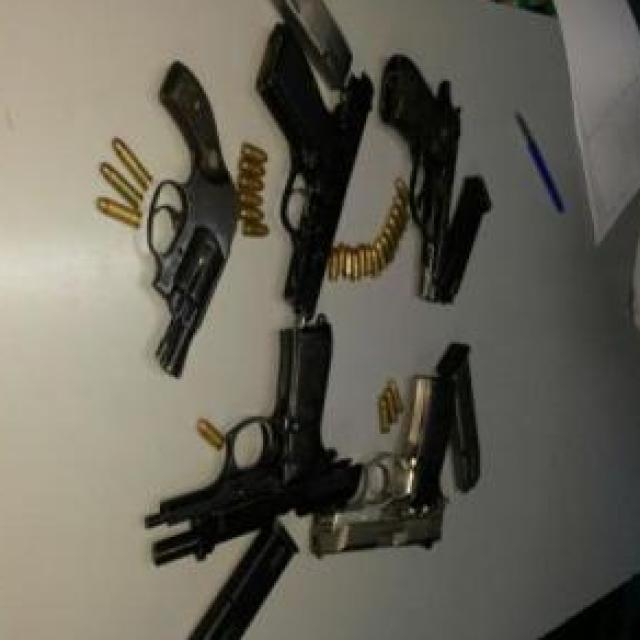pistol: (145, 312, 344, 570), (261, 25, 375, 333), (142, 64, 239, 379), (306, 375, 462, 563), (380, 50, 462, 302)
